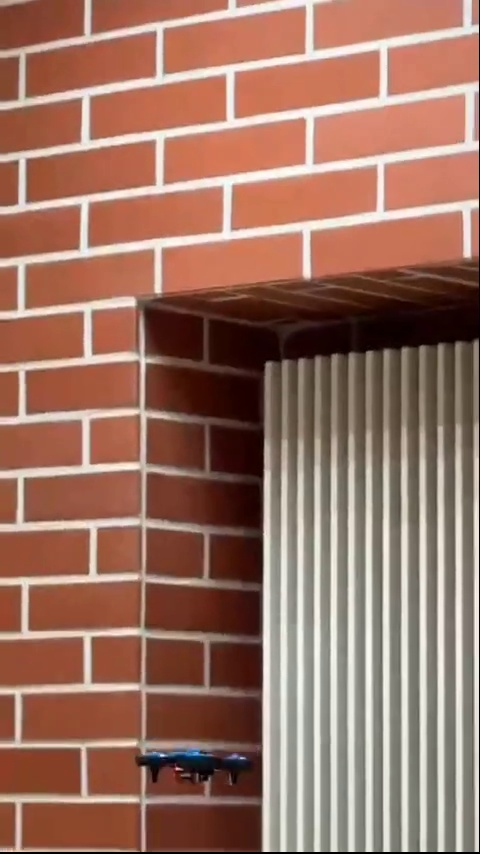drone: (127, 749, 260, 790)
